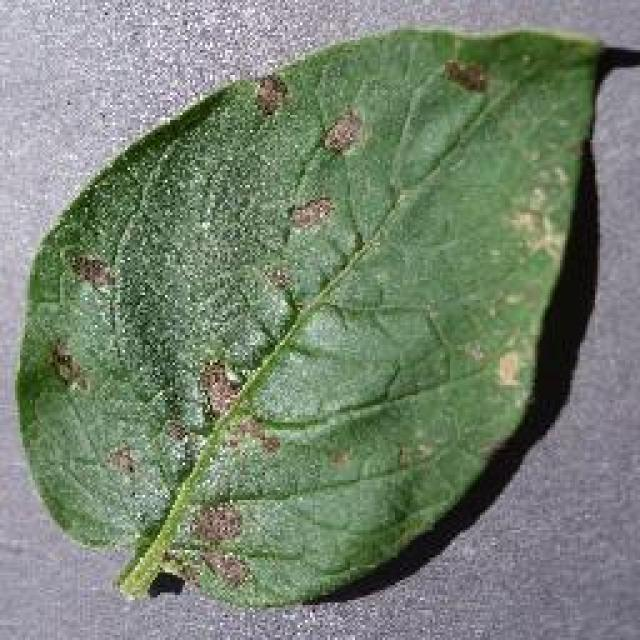Potato: (12, 22, 622, 608)
